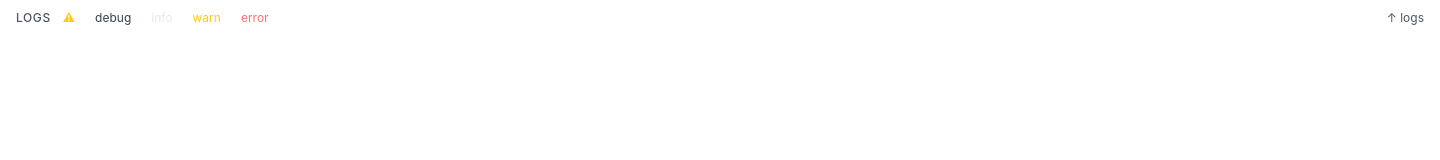
LogPanel › hides warning indicator when panel is open
The width and height of the screenshot is (1440, 160).
Click the button "↑ logs": point(1405, 18) [1387,10,1424,26]
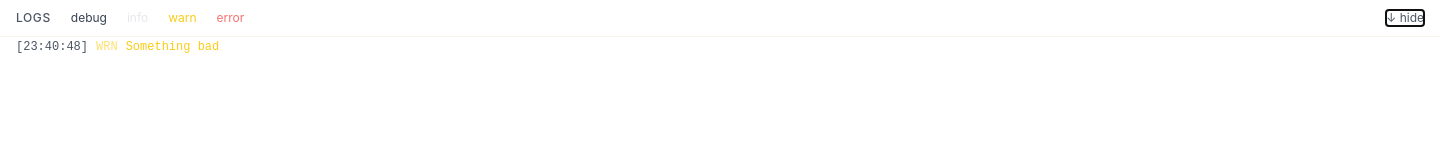
Now the text "⚠" is gone
